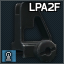AR-15 UTG Low Profile A2 front sight: (0, 0, 64, 64)
